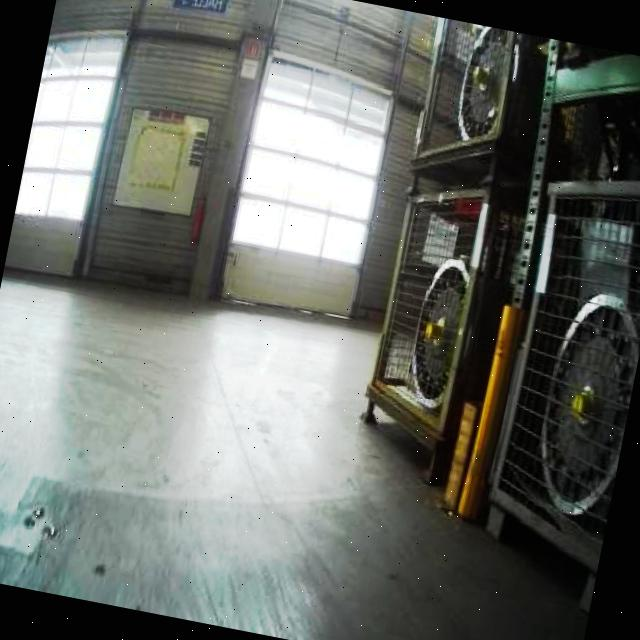ground: (0, 249, 636, 640)
pallet: (329, 17, 640, 623), (351, 168, 506, 486), (84, 96, 226, 298)
